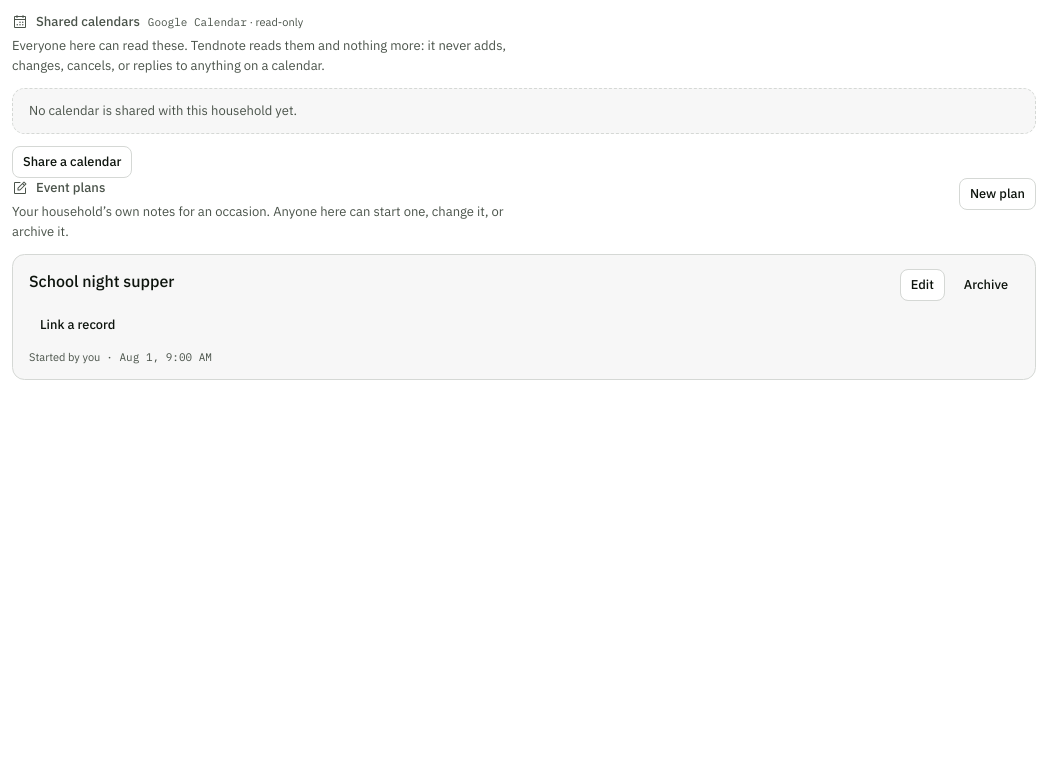
Test: shared calendars › will not share a calendar until an owner has confirmed the whole household
The image size is (1048, 780).
Click the button "Share a calendar".
click(72, 162)  # box [12, 146, 132, 178]
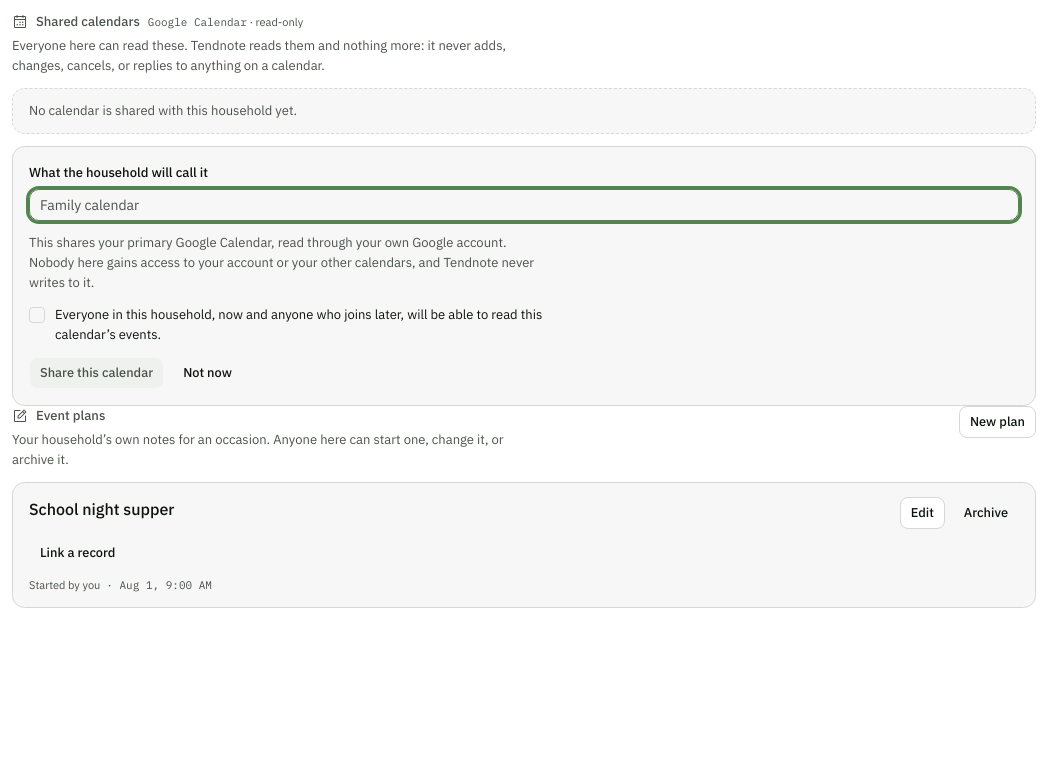
Type "Family" into the field labelled "What the household will call it".
click(524, 205); type("Family")  # box [29, 189, 1019, 221]
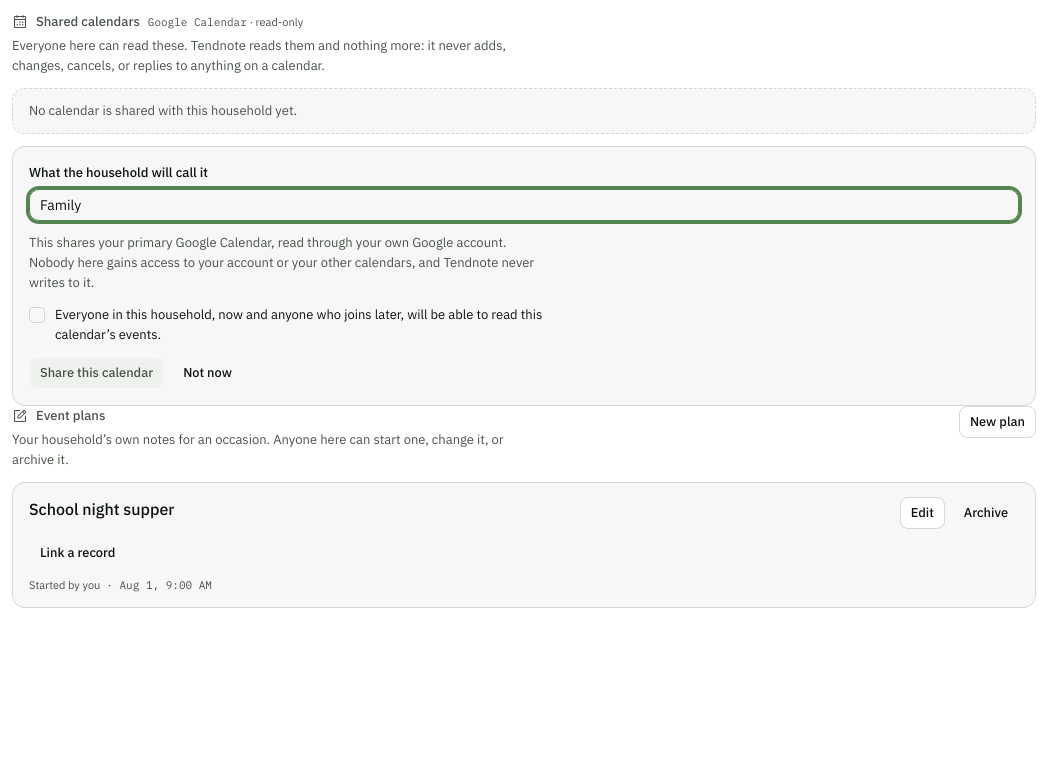
Check: the button "Share this calendar" is disabled, box [29, 357, 164, 389]
Click the checkbox named "Everyone in this household, now and anyone who joins later, will be able to read".
click(37, 315)  # box [29, 307, 45, 323]
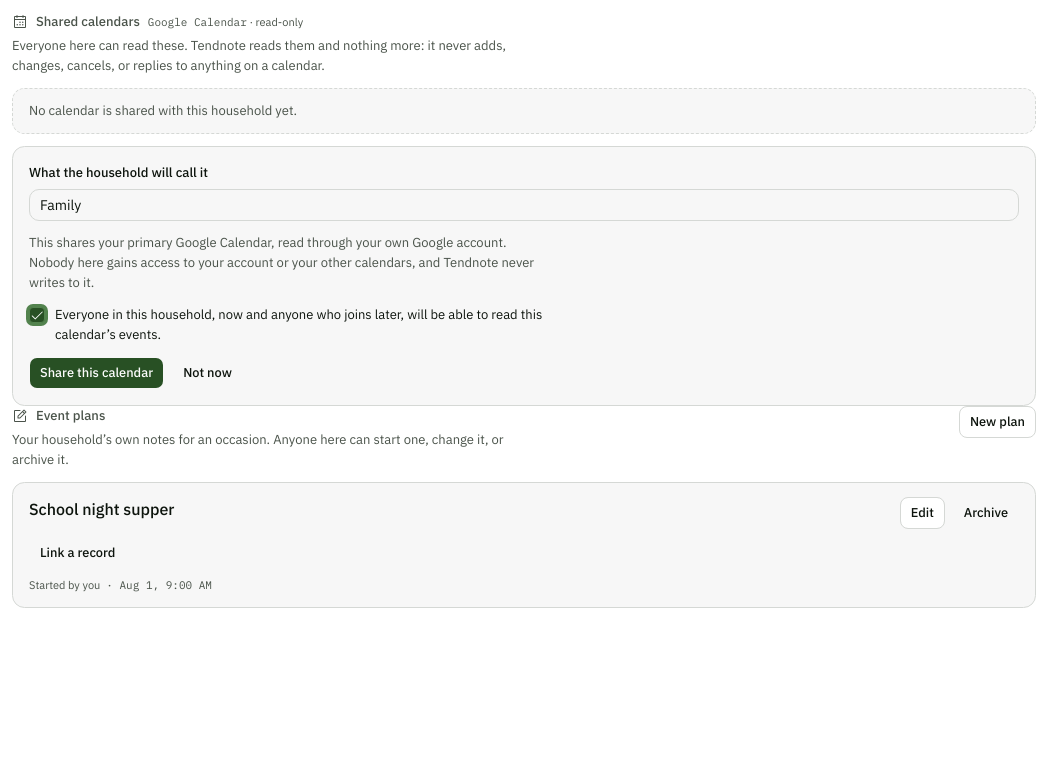
Click the button "Share this calendar".
click(97, 373)  # box [29, 357, 164, 389]
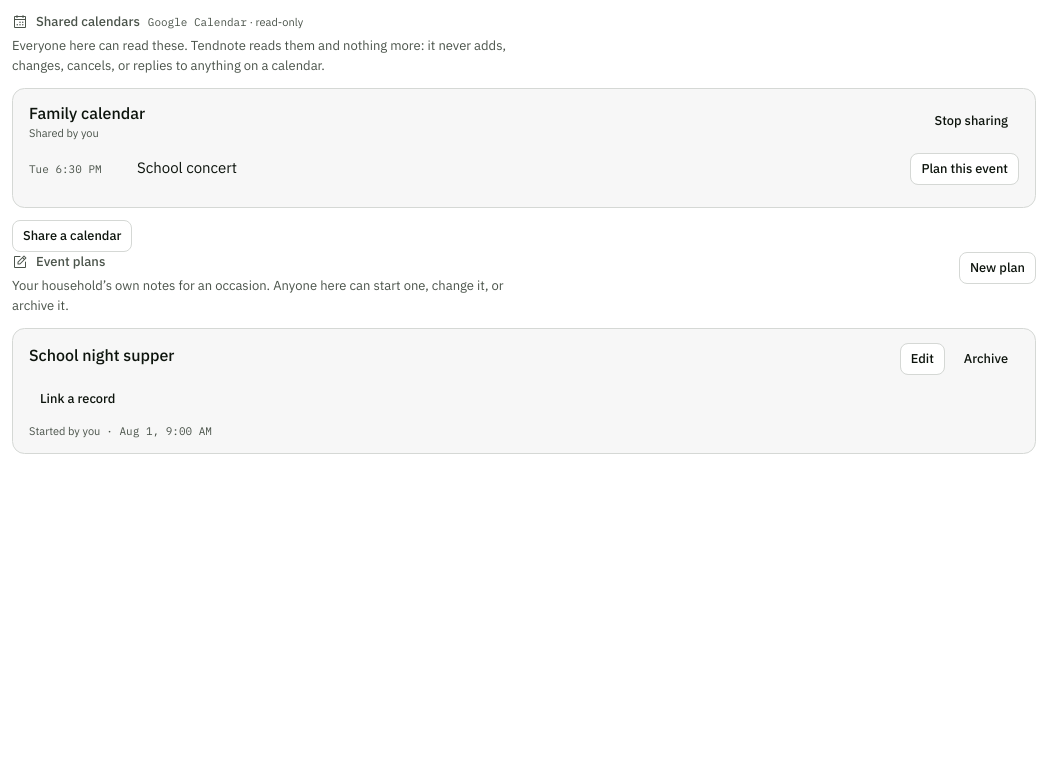
Check: the text "gains access to your account" is gone
